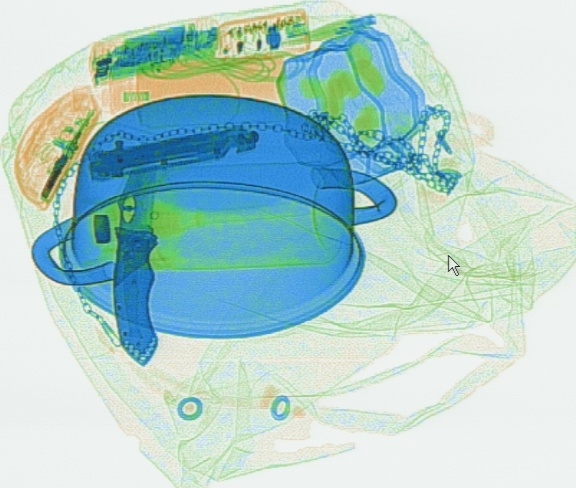knife: (110, 133, 159, 366), (85, 120, 261, 181)
